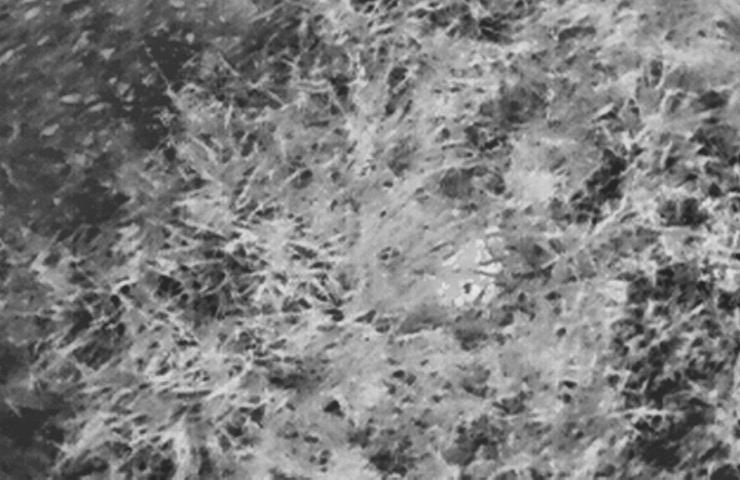landmines: (431, 227, 513, 311)
